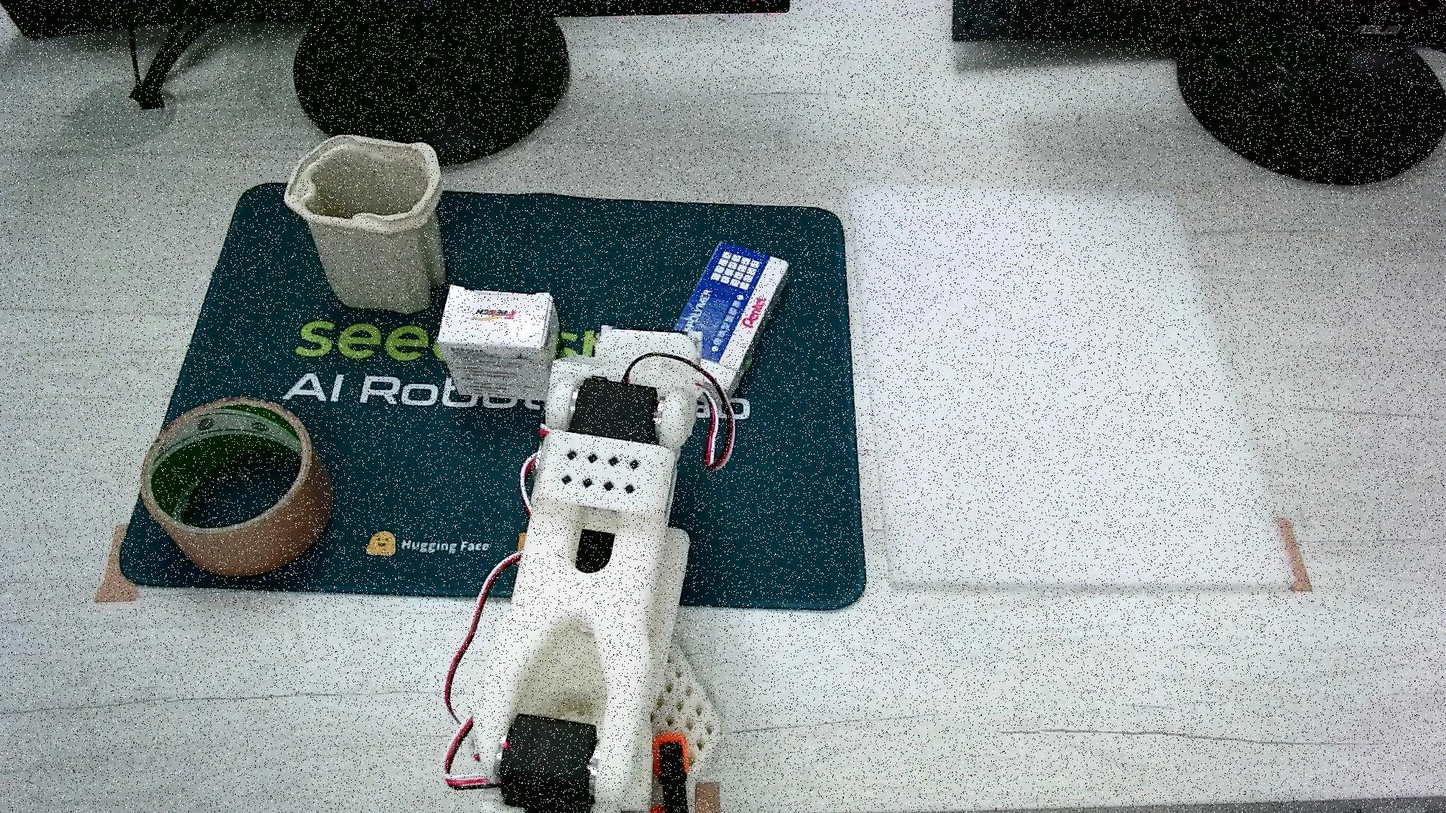eraser: (437, 285, 558, 399)
